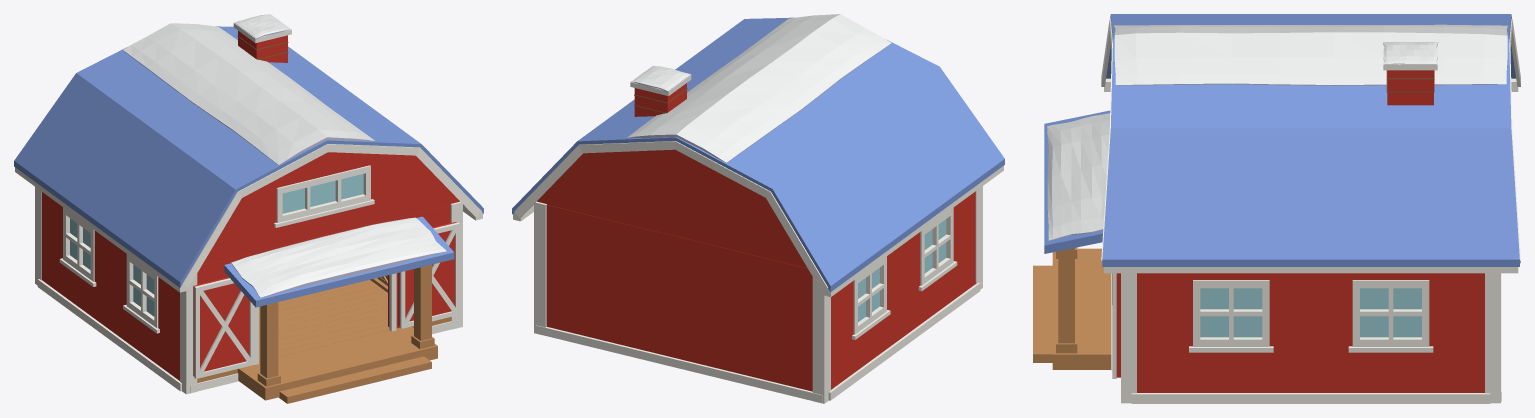
Rendered from StarterFarmhouse_updated.glb.
3 views of the same model, side by side, from view 1: azimuth 30°, elevation 25°; view 2: azimuth 150°, elevation 25°; view 3: azimuth 270°, elevation 25° (orthographic). The views are drawn at different scales.
Visible parts, largest first — view 1: MainRoof, FrontGable, LeftWall, PorchCanopy, Porch, Floor, LeftDoor, CornerBoards, RightDoor, FrontWall, Chimney; view 2: MainRoof, RearWall, RearGable, LeftWall, CornerBoards, Chimney; view 3: MainRoof, RightWall, Porch, PorchCanopy, CornerBoards, Chimney, RightDoor.
Boxes of the visible parts, box(x1,y1,x2,y2) form: MainRoof: box(14, 23, 483, 292); FrontGable: box(202, 152, 459, 265); LeftWall: box(42, 192, 179, 380); PorchCanopy: box(224, 216, 454, 307); Porch: box(237, 264, 437, 403); Floor: box(197, 280, 451, 382); LeftDoor: box(193, 277, 254, 378); CornerBoards: box(35, 187, 462, 394); RightDoor: box(398, 222, 459, 328); FrontWall: box(197, 204, 450, 364); Chimney: box(233, 14, 291, 62); MainRoof: box(512, 14, 1004, 296); RearWall: box(546, 205, 812, 391); RearGable: box(537, 149, 807, 268); LeftWall: box(831, 191, 975, 389); CornerBoards: box(534, 186, 982, 403); Chimney: box(630, 65, 691, 116); MainRoof: box(1101, 14, 1520, 273); RightWall: box(1137, 273, 1484, 392); Porch: box(1033, 247, 1111, 369); PorchCanopy: box(1044, 110, 1110, 253); CornerBoards: box(1121, 273, 1501, 403); Chimney: box(1383, 42, 1438, 105); RightDoor: box(1111, 273, 1120, 378).
Size of the model in its own units: 9.88 by 7.45 by 10.94.
Materials: 1 (1 with a texture image).
